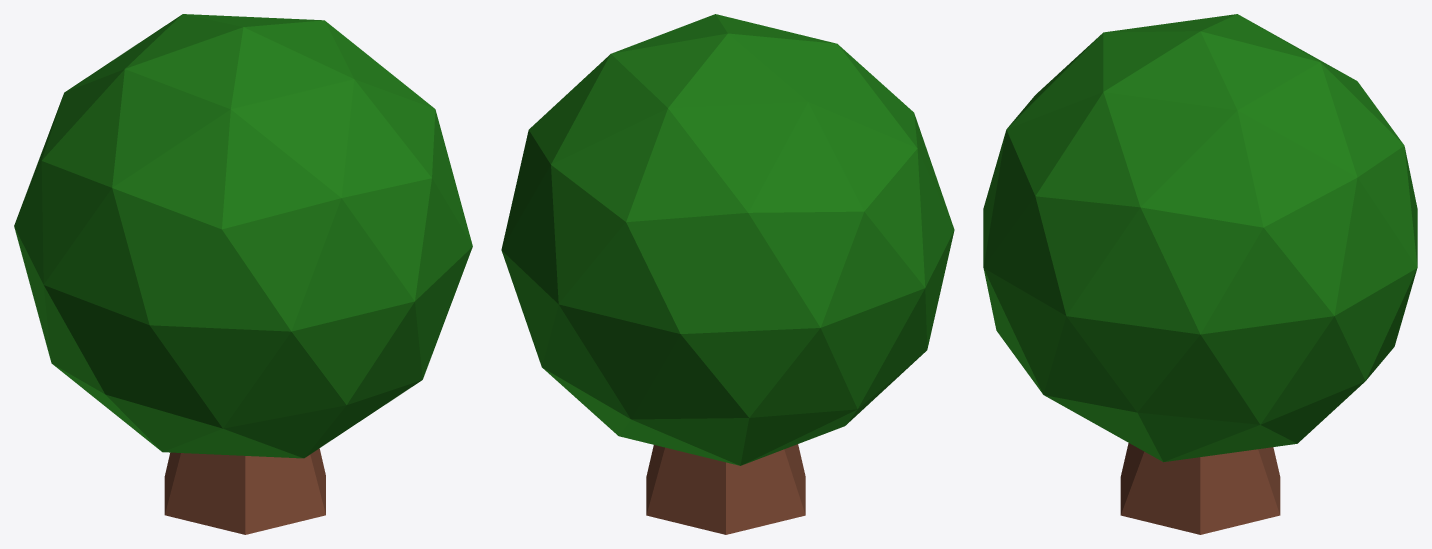
File: bush_2_summer_vc.fbx
The picture shows the model from 3 angles, left to right: view 1: azimuth 30°, elevation 25°; view 2: azimuth 150°, elevation 25°; view 3: azimuth 270°, elevation 25°; orthographic projection.
Parts seen in each view (by area): view 1: bush_2_summer_vc; view 2: bush_2_summer_vc; view 3: bush_2_summer_vc.
Boxes of the visible parts, left/top/right/bottom form: bush_2_summer_vc: left=14, top=14, right=472, bottom=534; bush_2_summer_vc: left=501, top=14, right=954, bottom=534; bush_2_summer_vc: left=983, top=14, right=1417, bottom=534.
Bounding box in the file's own units: 0.915 × 1.03 × 0.8702.
